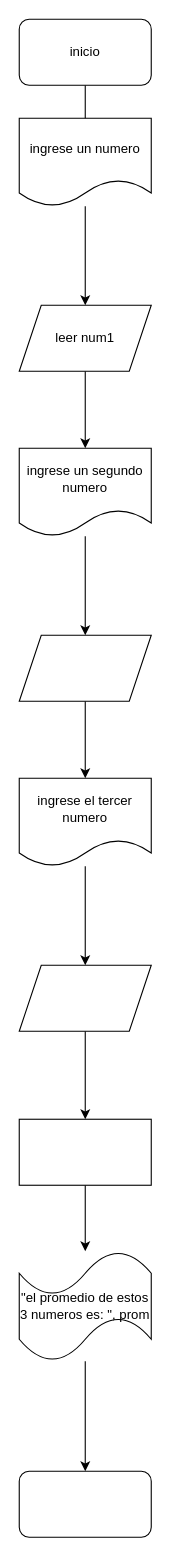
This 171x1557 diagram has some shape labels left out. Each missing label, with the centre of its shape:
leer num2: point (84, 667)
leer num3: point (84, 997)
prom = (num1 + num2 + num3)/3: point (84, 1151)
